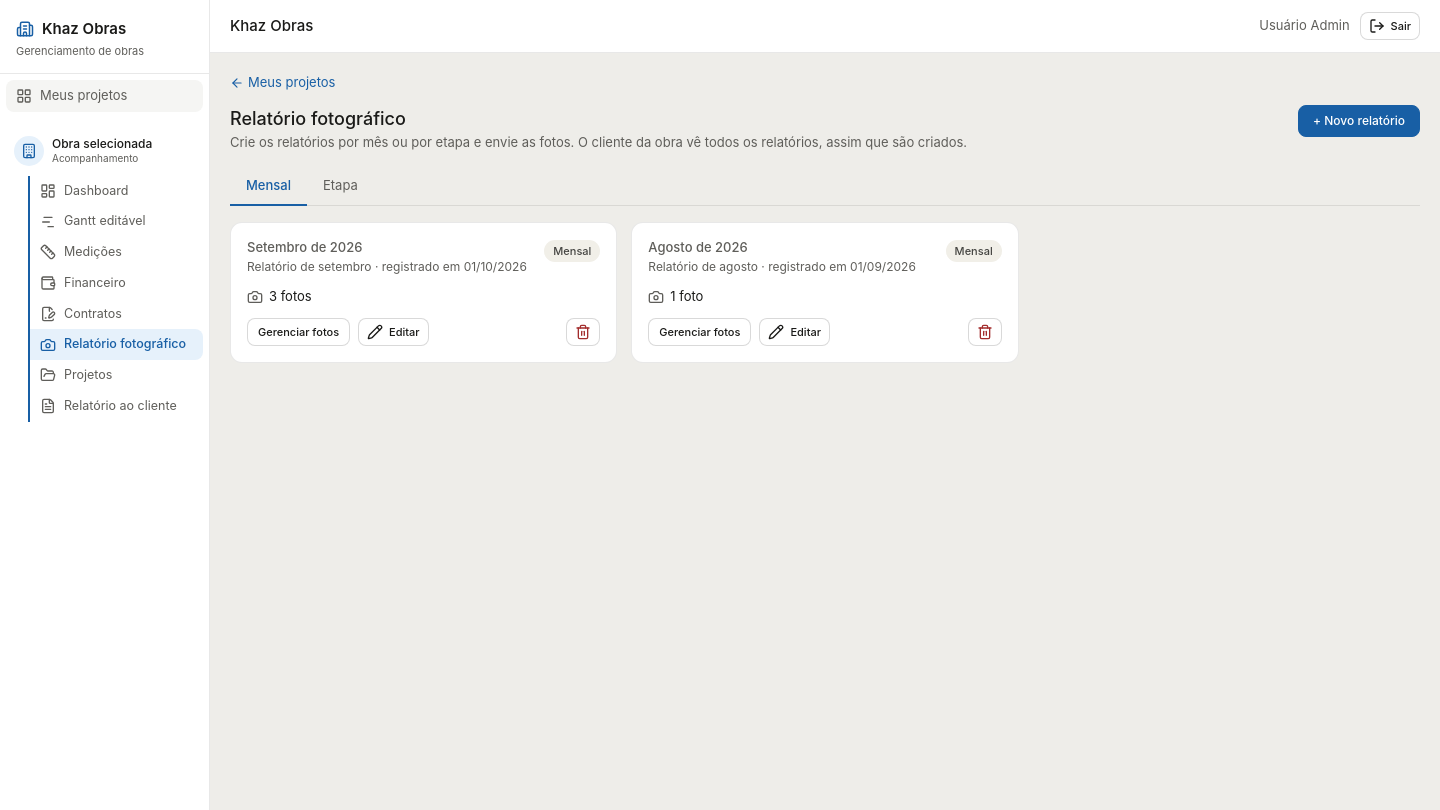
Relatório fotográfico (admin) - lista › falha ao carregar as etapas não derruba a tela: relatório por etapa cai no título digitado
The width and height of the screenshot is (1440, 810).
Click the tab "Etapa" at (340, 187), box [307,168,374,206]
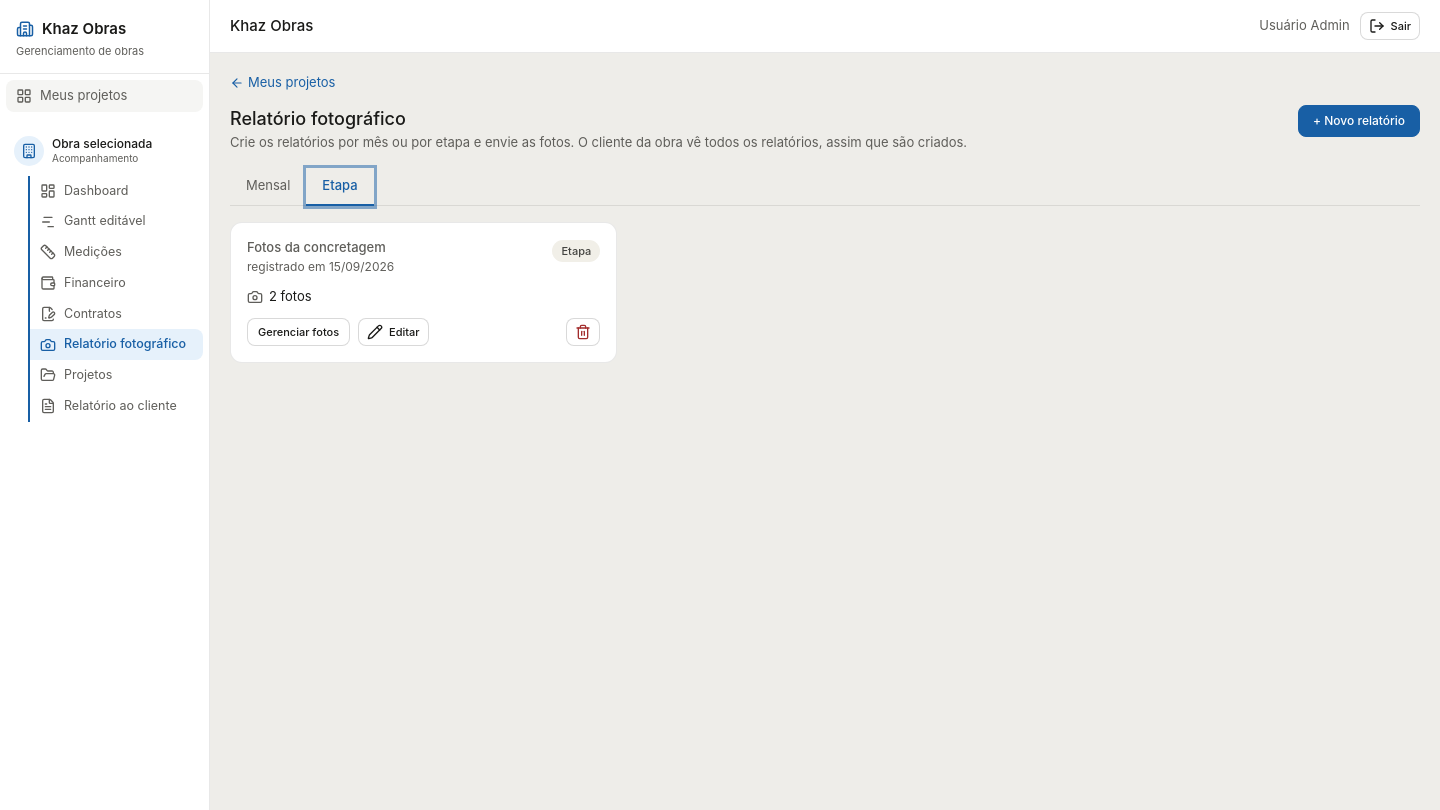
Check: the heading "Fotos da concretagem" is shown, box [247,238,386,255]
